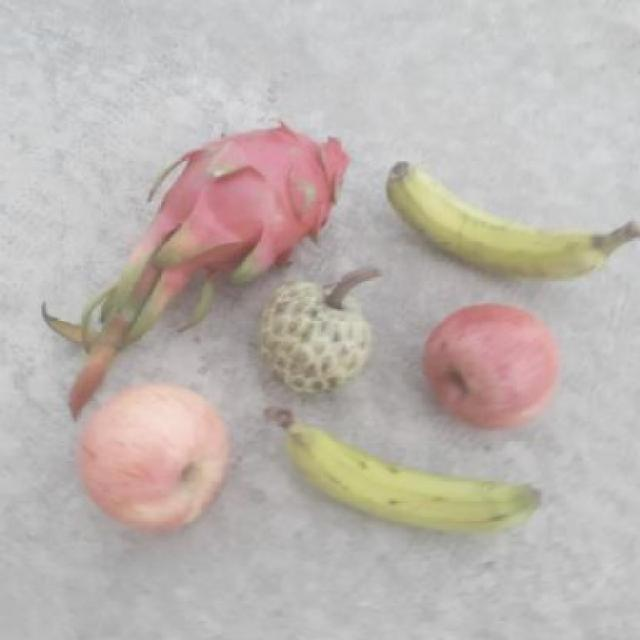apple: (76, 378, 241, 538), (420, 296, 571, 435)
banana: (263, 398, 562, 550), (383, 162, 640, 282)
dragon fruit: (138, 118, 352, 282)
sugar apple: (256, 274, 370, 400)
